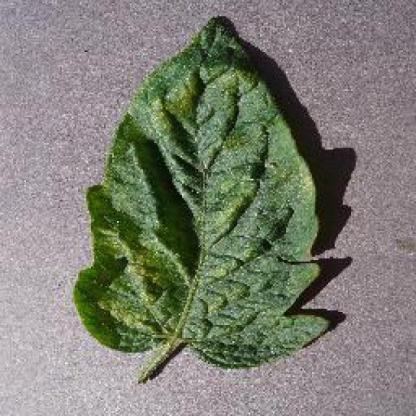Tomato_Spider_Mites: (75, 19, 324, 362)
